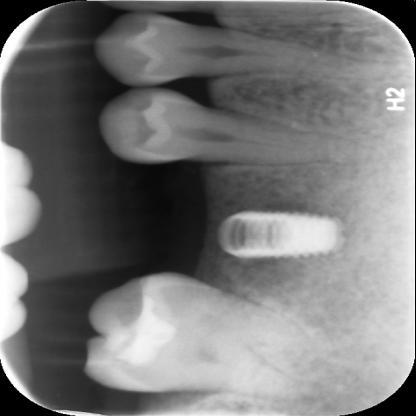Bicon: (211, 203, 349, 264)
